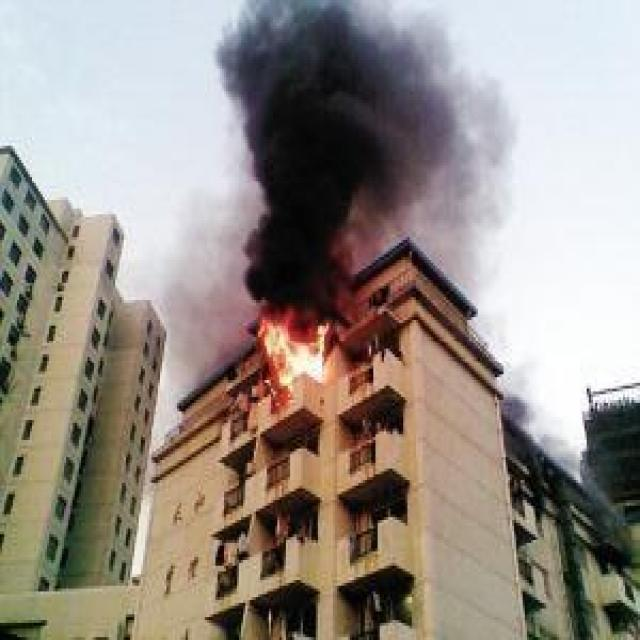Fire: (253, 300, 340, 397)
Smoke: (195, 0, 521, 315), (157, 212, 260, 376)
